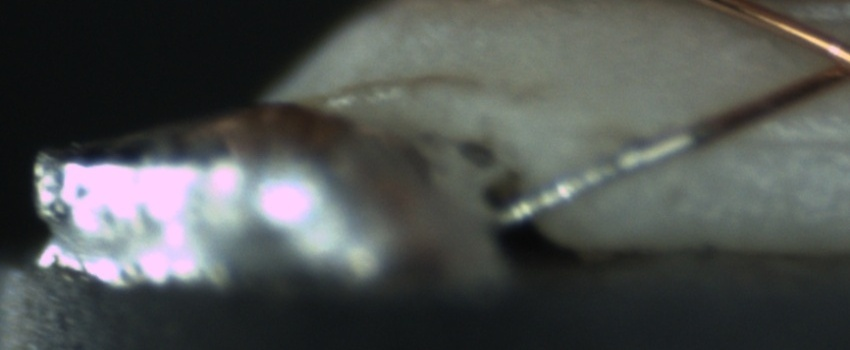CL: (802, 29, 850, 94)
DL: (703, 109, 850, 175)
TS: (494, 123, 700, 230)
TTCW: (493, 96, 753, 218)
